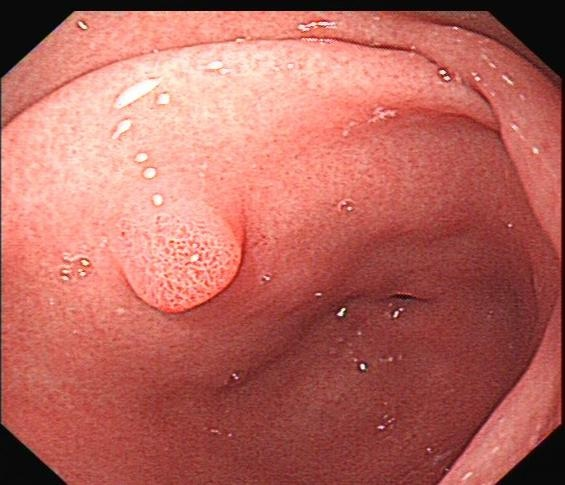Polyp: (118, 198, 252, 319)
